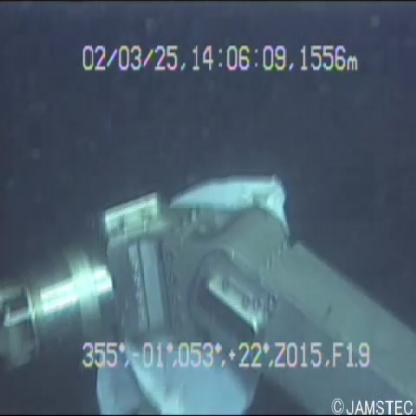Rov: (4, 186, 412, 416)
Rác: (66, 159, 286, 416)
